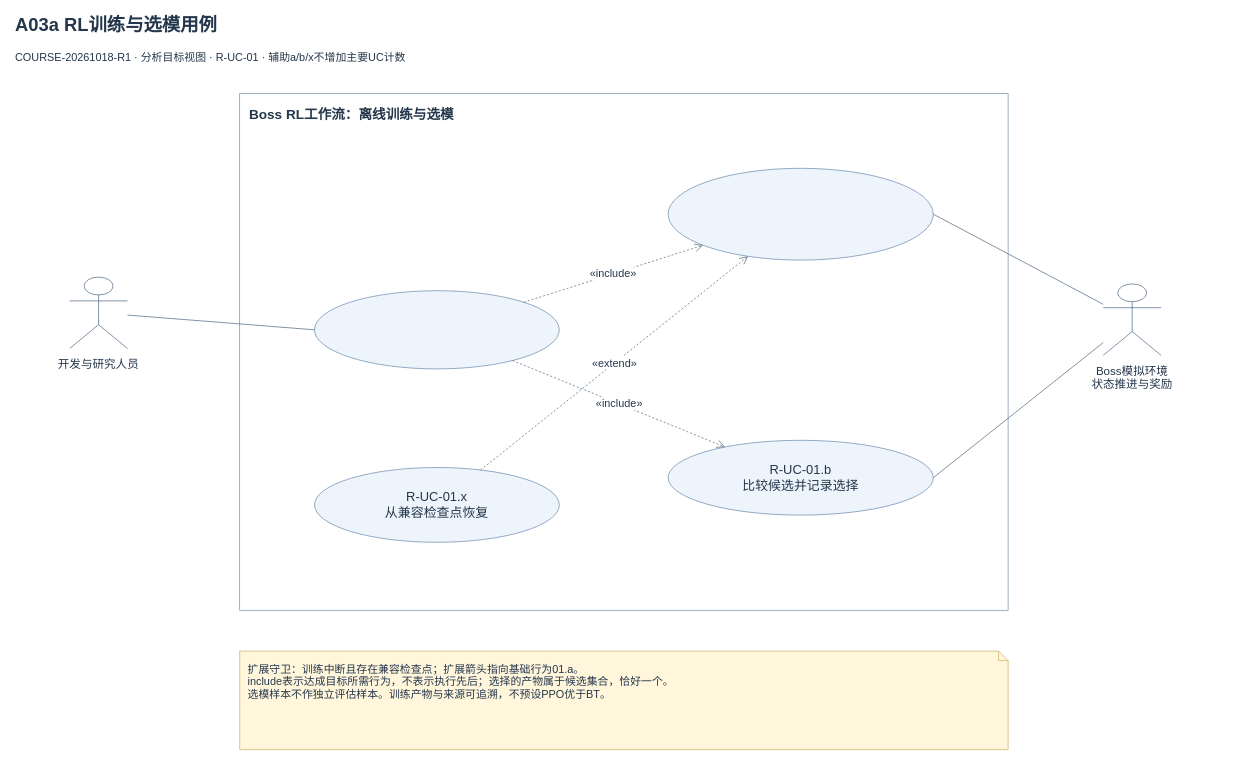
Some shapes in this 1244 by 762 pixel diagram are drawn without their labels. The centre of each missing label's shape, as x and y in pixels:
R-UC-01 训练并选择候选策略: pixel 436 329
R-UC-01.a 训练候选并保存产物 扩展点：开始 / 恢复训练: pixel 800 214
